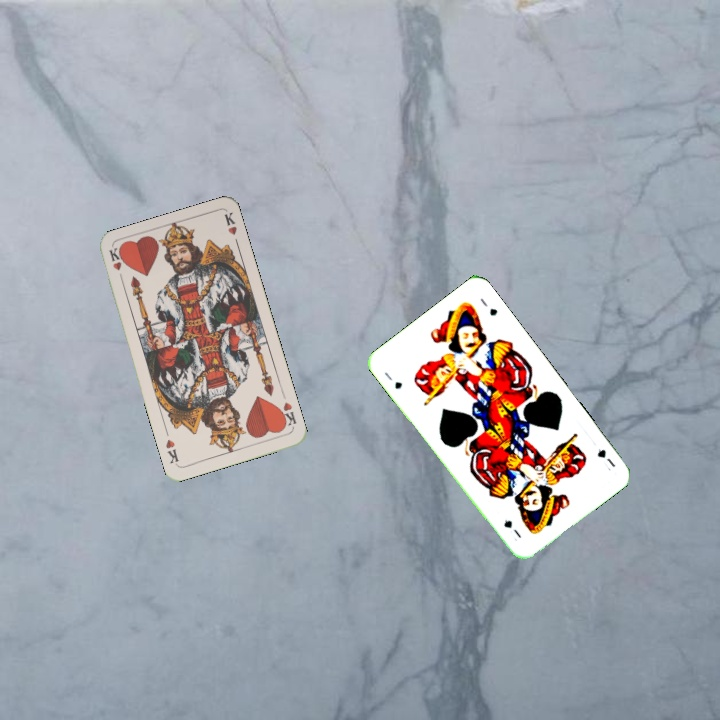GU: (593, 445, 618, 473), (380, 368, 405, 392)
HK: (105, 244, 126, 285), (275, 398, 299, 430)
